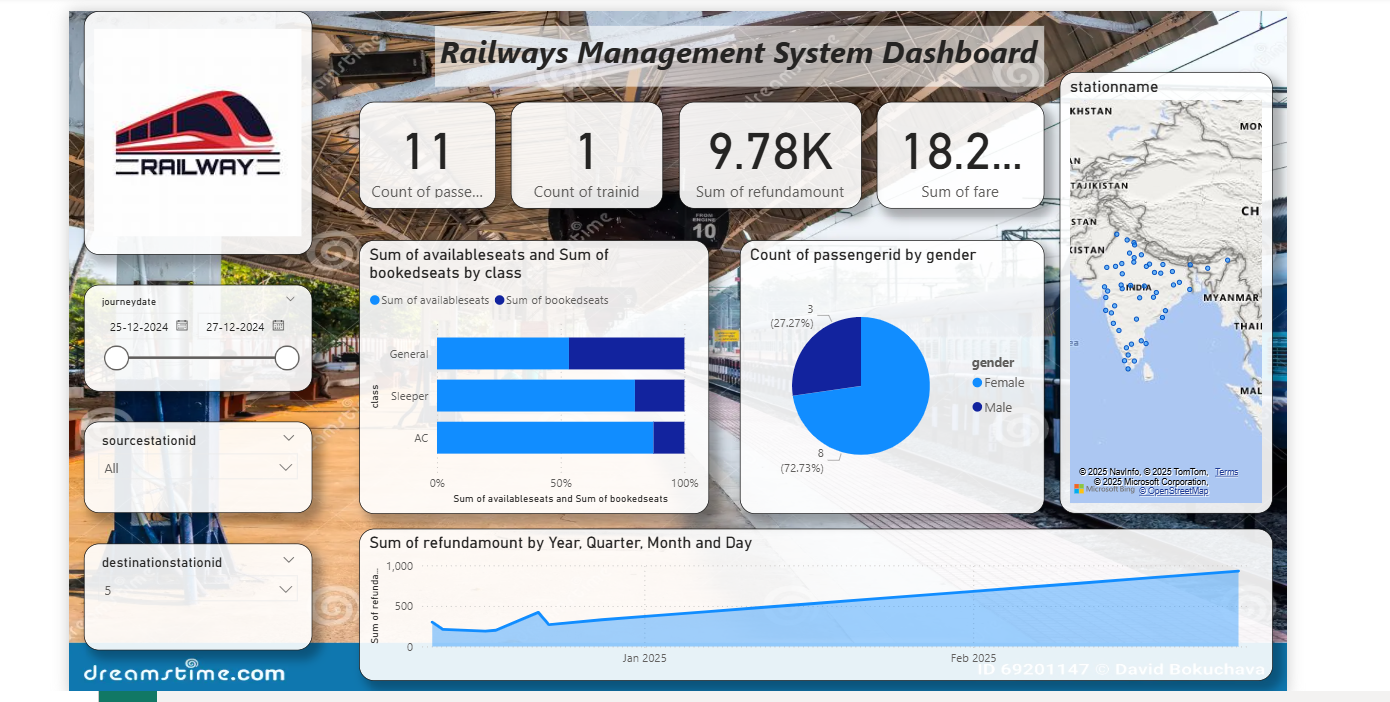

Layout of this report page (visuals, bound fields, positions):
{"tool":"powerbi","page":{"name":"Page 1","canvas":[1280,720],"ordinal":0},"visuals":[{"type":"card","fields":{"Values":["master train.trainid"]},"box":[464,96,160,112],"z":0},{"type":"card","fields":{"Values":["public ticket.fare"]},"box":[848,96,176,112],"z":1000},{"type":"map","fields":{"Category":["master station.stationname"]},"box":[1040,64,224,464],"z":2000},{"type":"hundredPercentStackedBarChart","fields":{"Category":["public seatavailability.class"],"Y":["public seatavailability.availableseats","public seatavailability.bookedseats"]},"box":[304,240,368,288],"z":4000},{"type":"areaChart","fields":{"Y":["public cancellation.refundamount"],"Category":["public cancellation.cancellationdate.Variation.Date Hierarchy.Year","public cancellation.cancellationdate.Variation.Date Hierarchy.Quarter","public cancellation.cancellationdate.Variation.Date Hierarchy.Month","public cancellation.cancellationdate.Variation.Date Hierarchy.Day"]},"box":[304,544,960,160],"z":5000},{"type":"slicer","fields":{"Values":["master train.destinationstationid"]},"box":[16,560,240,112],"z":6000},{"type":"slicer","fields":{"Values":["master train.sourcestationid"]},"box":[16,432,240,96],"z":7000},{"type":"slicer","fields":{"Values":["public seatavailability.journeydate"]},"box":[16,288,240,112],"z":8000},{"type":"card","fields":{"Values":["public passenger.passengerid"]},"box":[304,96,144,112],"z":9000},{"type":"card","fields":{"Values":["public cancellation.refundamount"]},"box":[640,96,192,112],"z":10000},{"type":"pieChart","fields":{"Category":["public passenger.gender"],"Y":["public passenger.passengerid"]},"box":[704,240,320,288],"z":11000},{"type":"image","box":[16,0,240,256],"z":11001},{"type":"textbox","box":[384,16,640,64],"z":11002}]}

Visuals, with their boxes in screenshot pixels (x1, y1, x2, y2):
card - master train.trainid: (x1=508, y1=96, x2=662, y2=204)
card - public ticket.fare: (x1=877, y1=96, x2=1046, y2=204)
map - master station.stationname: (x1=1062, y1=65, x2=1277, y2=511)
hundredPercentStackedBarChart - public seatavailability.class x public seatavailability.availableseats: (x1=354, y1=234, x2=708, y2=511)
areaChart - public cancellation.refundamount x public cancellation.cancellationdate.Variation.Date Hierarchy.Year: (x1=354, y1=527, x2=1277, y2=681)
slicer - master train.destinationstationid: (x1=77, y1=542, x2=308, y2=650)
slicer - master train.sourcestationid: (x1=77, y1=419, x2=308, y2=511)
slicer - public seatavailability.journeydate: (x1=77, y1=281, x2=308, y2=388)
card - public passenger.passengerid: (x1=354, y1=96, x2=492, y2=204)
card - public cancellation.refundamount: (x1=677, y1=96, x2=862, y2=204)
pieChart - public passenger.gender x public passenger.passengerid: (x1=739, y1=234, x2=1046, y2=511)
image: (x1=77, y1=4, x2=308, y2=250)
textbox: (x1=431, y1=19, x2=1046, y2=81)
